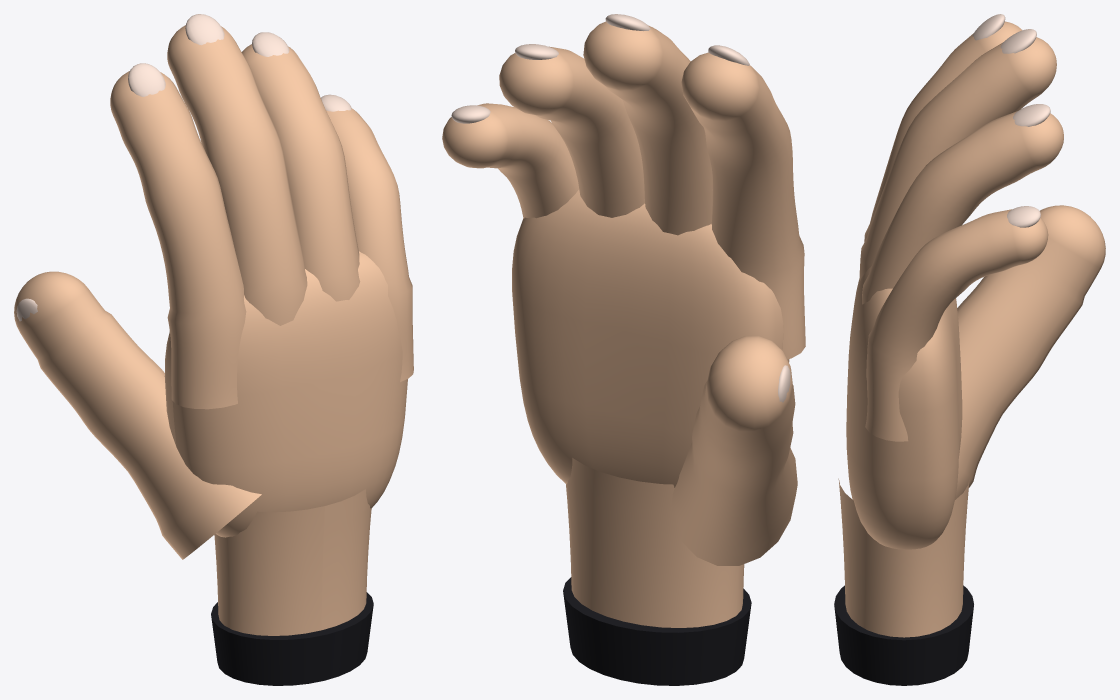
The model's file is hand-right-relax.glb.
3 views of the same model, side by side, from view 1: azimuth 30°, elevation 25°; view 2: azimuth 150°, elevation 25°; view 3: azimuth 270°, elevation 25° (orthographic). The views are drawn at different scales.
Parts seen in each view (by area): view 1: hand-right-relax; view 2: hand-right-relax; view 3: hand-right-relax.
Boxes of the visible parts, <box> form: hand-right-relax: <box>14,14,413,685</box>; hand-right-relax: <box>442,14,805,685</box>; hand-right-relax: <box>834,14,1105,685</box>.
Bounding box in the file's own units: 0.11 × 0.1997 × 0.0811.
